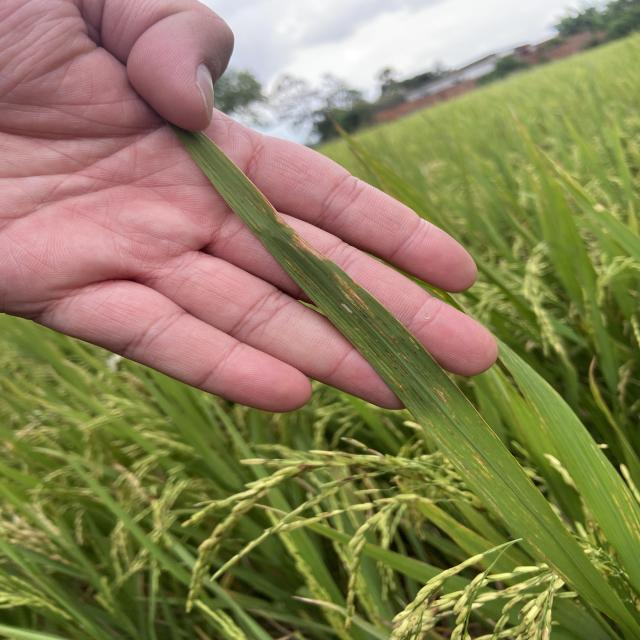Dom soc vi khuan: (316, 300, 410, 400), (332, 272, 393, 332), (336, 286, 388, 338), (281, 255, 319, 294), (420, 414, 451, 444), (384, 349, 408, 374), (335, 298, 359, 320), (472, 454, 494, 478), (432, 386, 447, 402), (390, 334, 399, 343)
